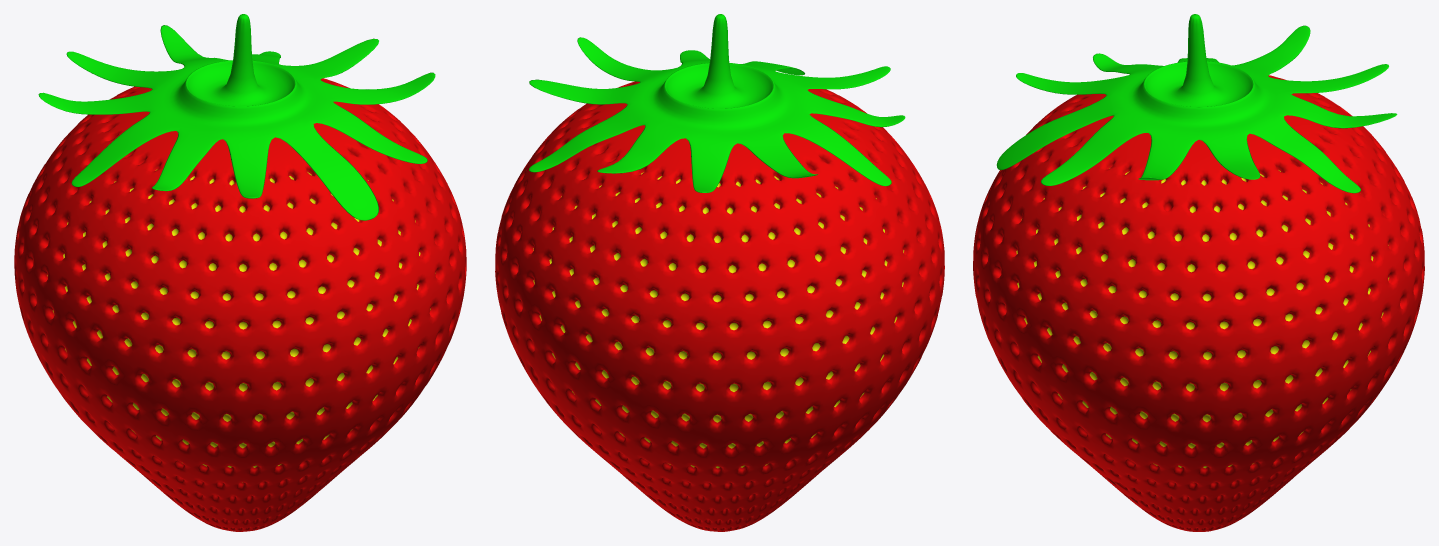
The model's file is イチゴ.fbx.
3 views of the same model, side by side, from view 1: azimuth 30°, elevation 25°; view 2: azimuth 150°, elevation 25°; view 3: azimuth 270°, elevation 25° (orthographic).
Visible parts, largest first — view 1: pSphere1, pCylinder1; view 2: pSphere1, pCylinder1; view 3: pSphere1, pCylinder1.
Boxes of the visible parts, x1,y1,x2,y2 form: pSphere1: [14, 78, 466, 531]; pCylinder1: [38, 14, 435, 220]; pSphere1: [495, 81, 944, 531]; pCylinder1: [529, 14, 905, 192]; pSphere1: [973, 75, 1424, 531]; pCylinder1: [996, 14, 1397, 193].
Bounding box in the file's own units: 3.22 × 4.02 × 3.22.
